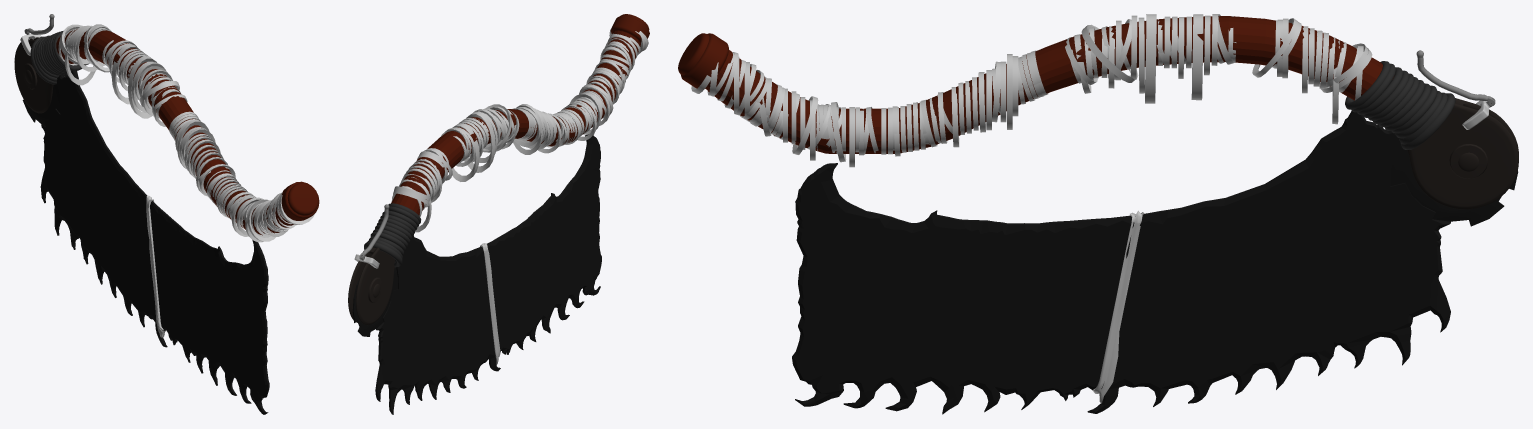
Rendered from SawCleaver.obj.
The picture shows the model from 3 angles, left to right: view 1: azimuth 30°, elevation 25°; view 2: azimuth 150°, elevation 25°; view 3: azimuth 270°, elevation 25°; orthographic projection. The views are drawn at different scales.
Visible parts, largest first — view 1: polySurface87 polySurface86, pTorus183, polySurface95, polySurface71, polySurface59 polySurface41, polySurface86 polySurface94, polySurface61; view 2: polySurface87 polySurface86, pTorus183, polySurface95, polySurface59 polySurface41, polySurface71, polySurface86 polySurface94, polySurface61; view 3: polySurface87 polySurface86, pTorus183, polySurface95, polySurface59 polySurface41, polySurface71, polySurface86 polySurface94, polySurface61.
Boxes of the visible parts, <box> form: polySurface87 polySurface86: <box>22,71,269,414</box>; pTorus183: <box>58,24,315,242</box>; polySurface95: <box>56,29,319,235</box>; polySurface71: <box>30,31,85,84</box>; polySurface59 polySurface41: <box>14,37,53,113</box>; polySurface86 polySurface94: <box>146,195,165,337</box>; polySurface61: <box>23,63,37,89</box>; polySurface87 polySurface86: <box>352,134,601,414</box>; pTorus183: <box>391,28,648,232</box>; polySurface95: <box>391,14,649,215</box>; polySurface59 polySurface41: <box>348,247,394,325</box>; polySurface71: <box>364,203,421,267</box>; polySurface86 polySurface94: <box>480,243,500,365</box>; polySurface61: <box>368,277,382,303</box>; polySurface87 polySurface86: <box>792,111,1518,414</box>; pTorus183: <box>691,14,1372,167</box>; polySurface95: <box>678,16,1393,153</box>; polySurface59 polySurface41: <box>1407,98,1518,209</box>; polySurface71: <box>1345,61,1455,149</box>; polySurface86 polySurface94: <box>1092,210,1143,403</box>; polySurface61: <box>1449,144,1487,178</box>.
Bounding box in the file's own units: 0.9084 × 6.77 × 12.93.
